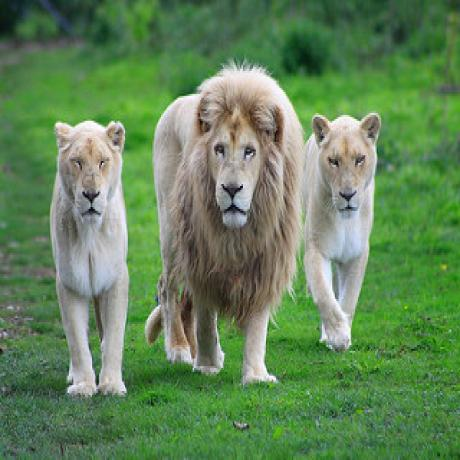Lion: (142, 63, 305, 384), (48, 117, 131, 398), (304, 111, 383, 349)
